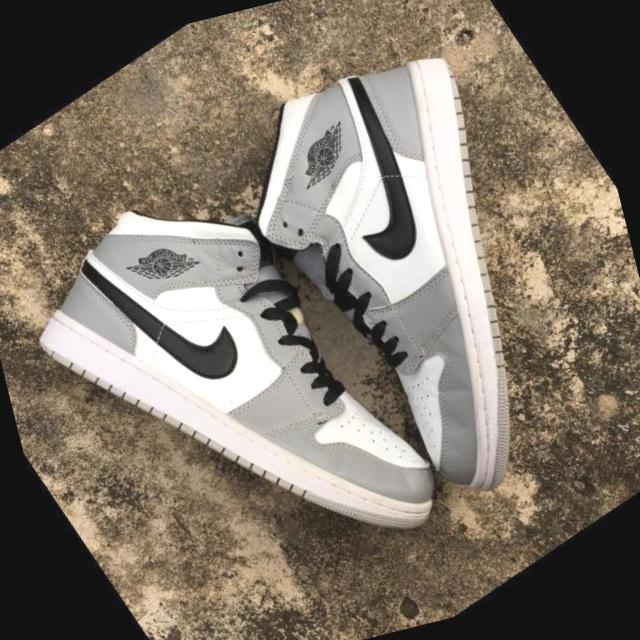nike_fake_jordan: (0, 102, 479, 640), (185, 0, 640, 545)
